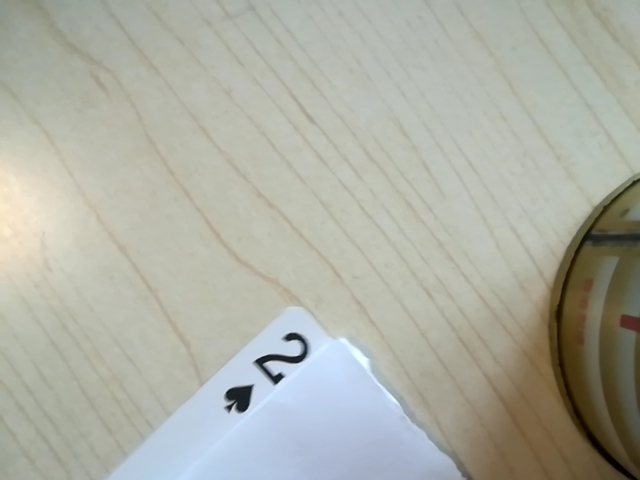ht 2: (207, 325, 326, 424)
